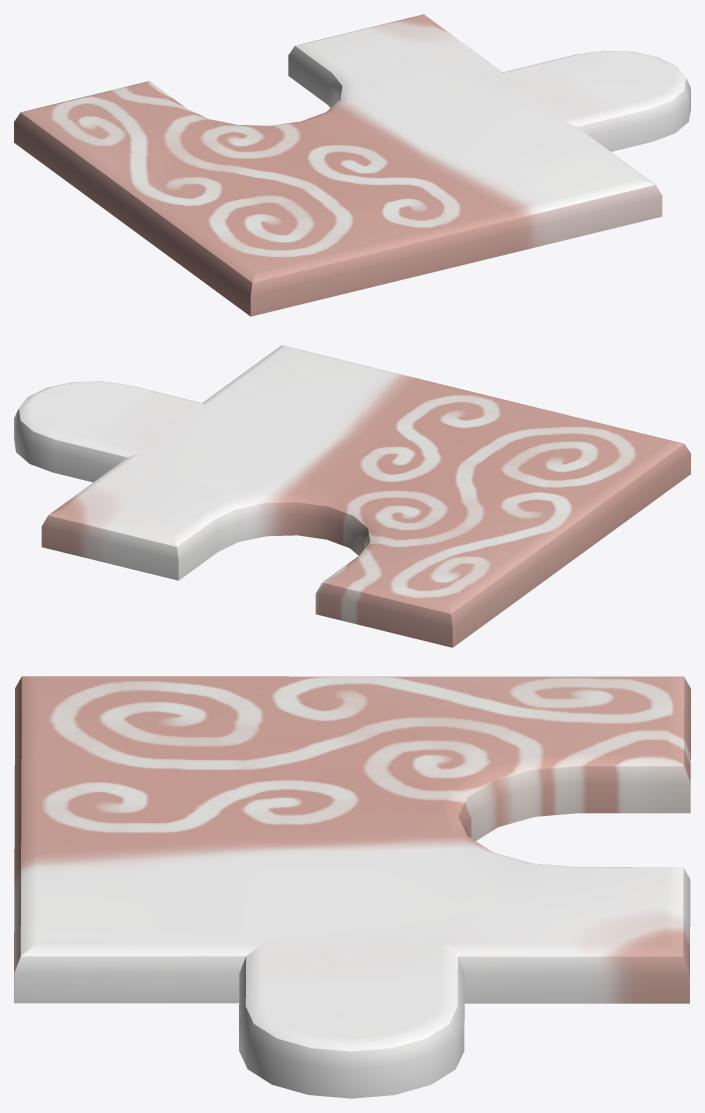
File: puzzle7.fbx
3 views of the same model, one above another, from view 1: azimuth 30°, elevation 25°; view 2: azimuth 150°, elevation 25°; view 3: azimuth 270°, elevation 25° (orthographic). The views are drawn at different scales.
Visible parts, largest first — view 1: polySurface9; view 2: polySurface9; view 3: polySurface9.
Part boxes in pixels (x1=…): polySurface9: x1=14, y1=14, x2=690, y2=316; polySurface9: x1=14, y1=345, x2=690, y2=647; polySurface9: x1=14, y1=676, x2=690, y2=1098.
Size of the model in its own units: 1.33 by 0.0821 by 1.
